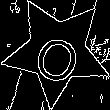O_NE: (27, 19, 87, 83)
